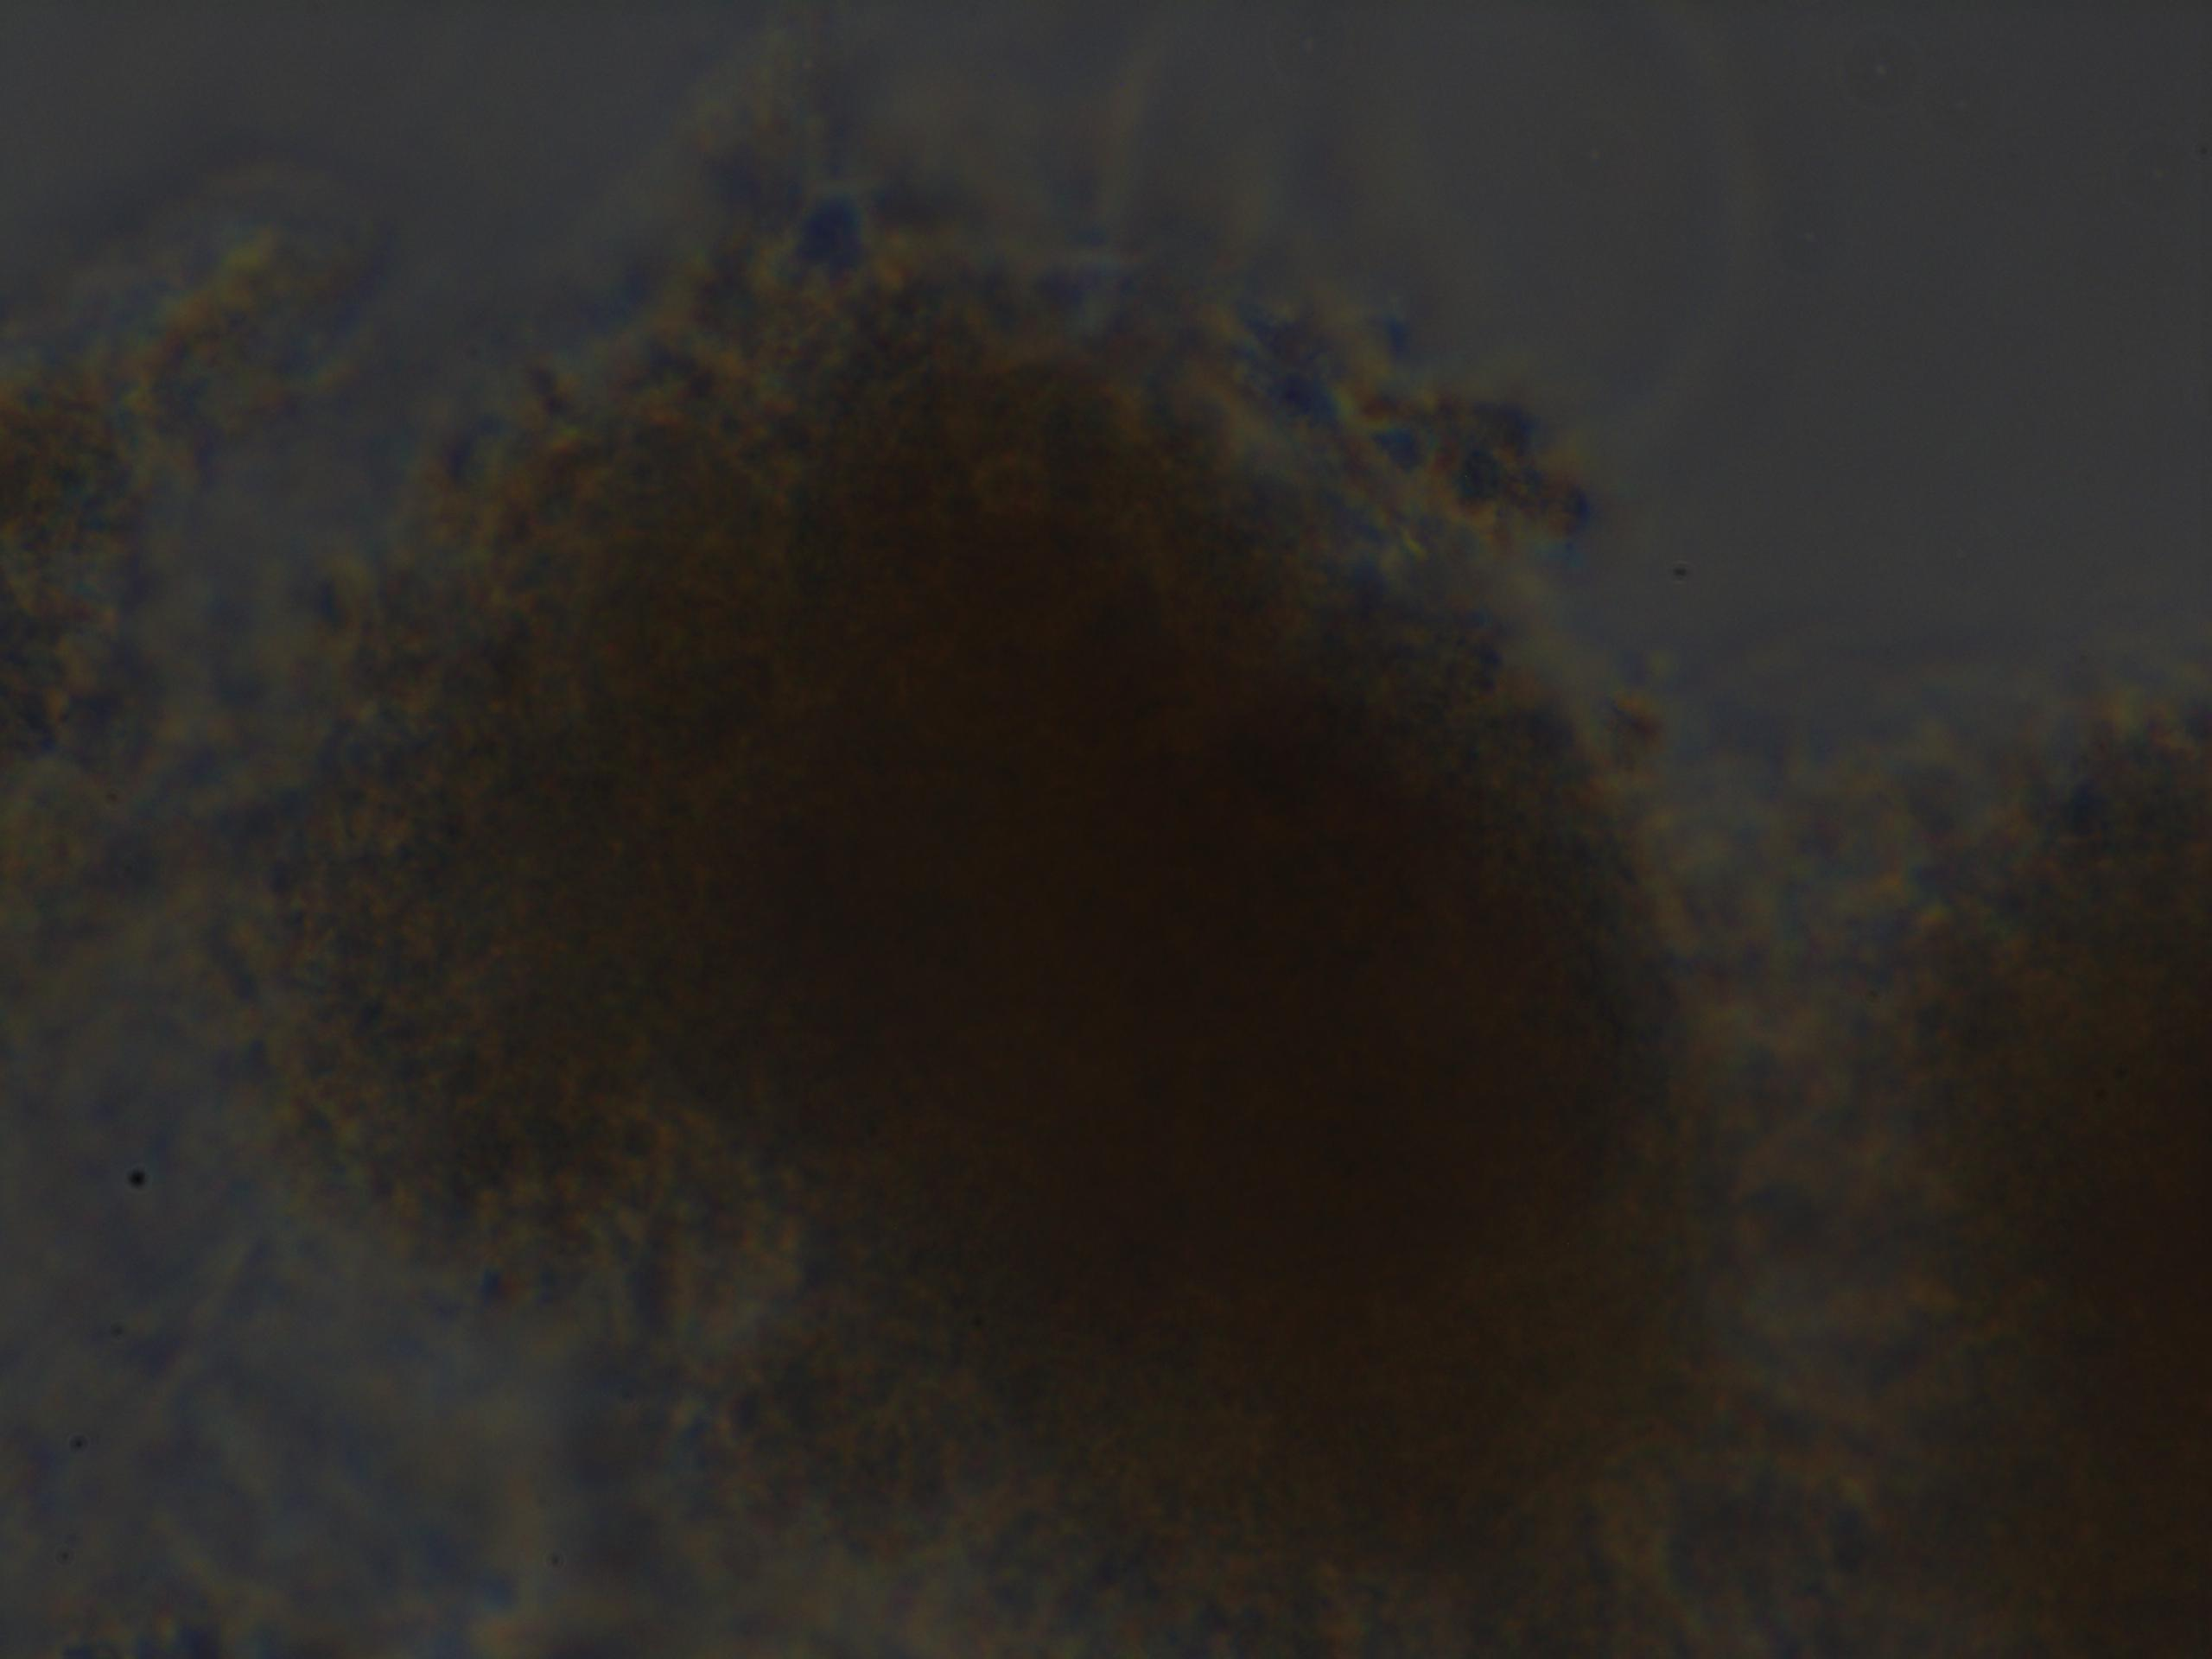spherical_floc: (240, 214, 1780, 1659)
